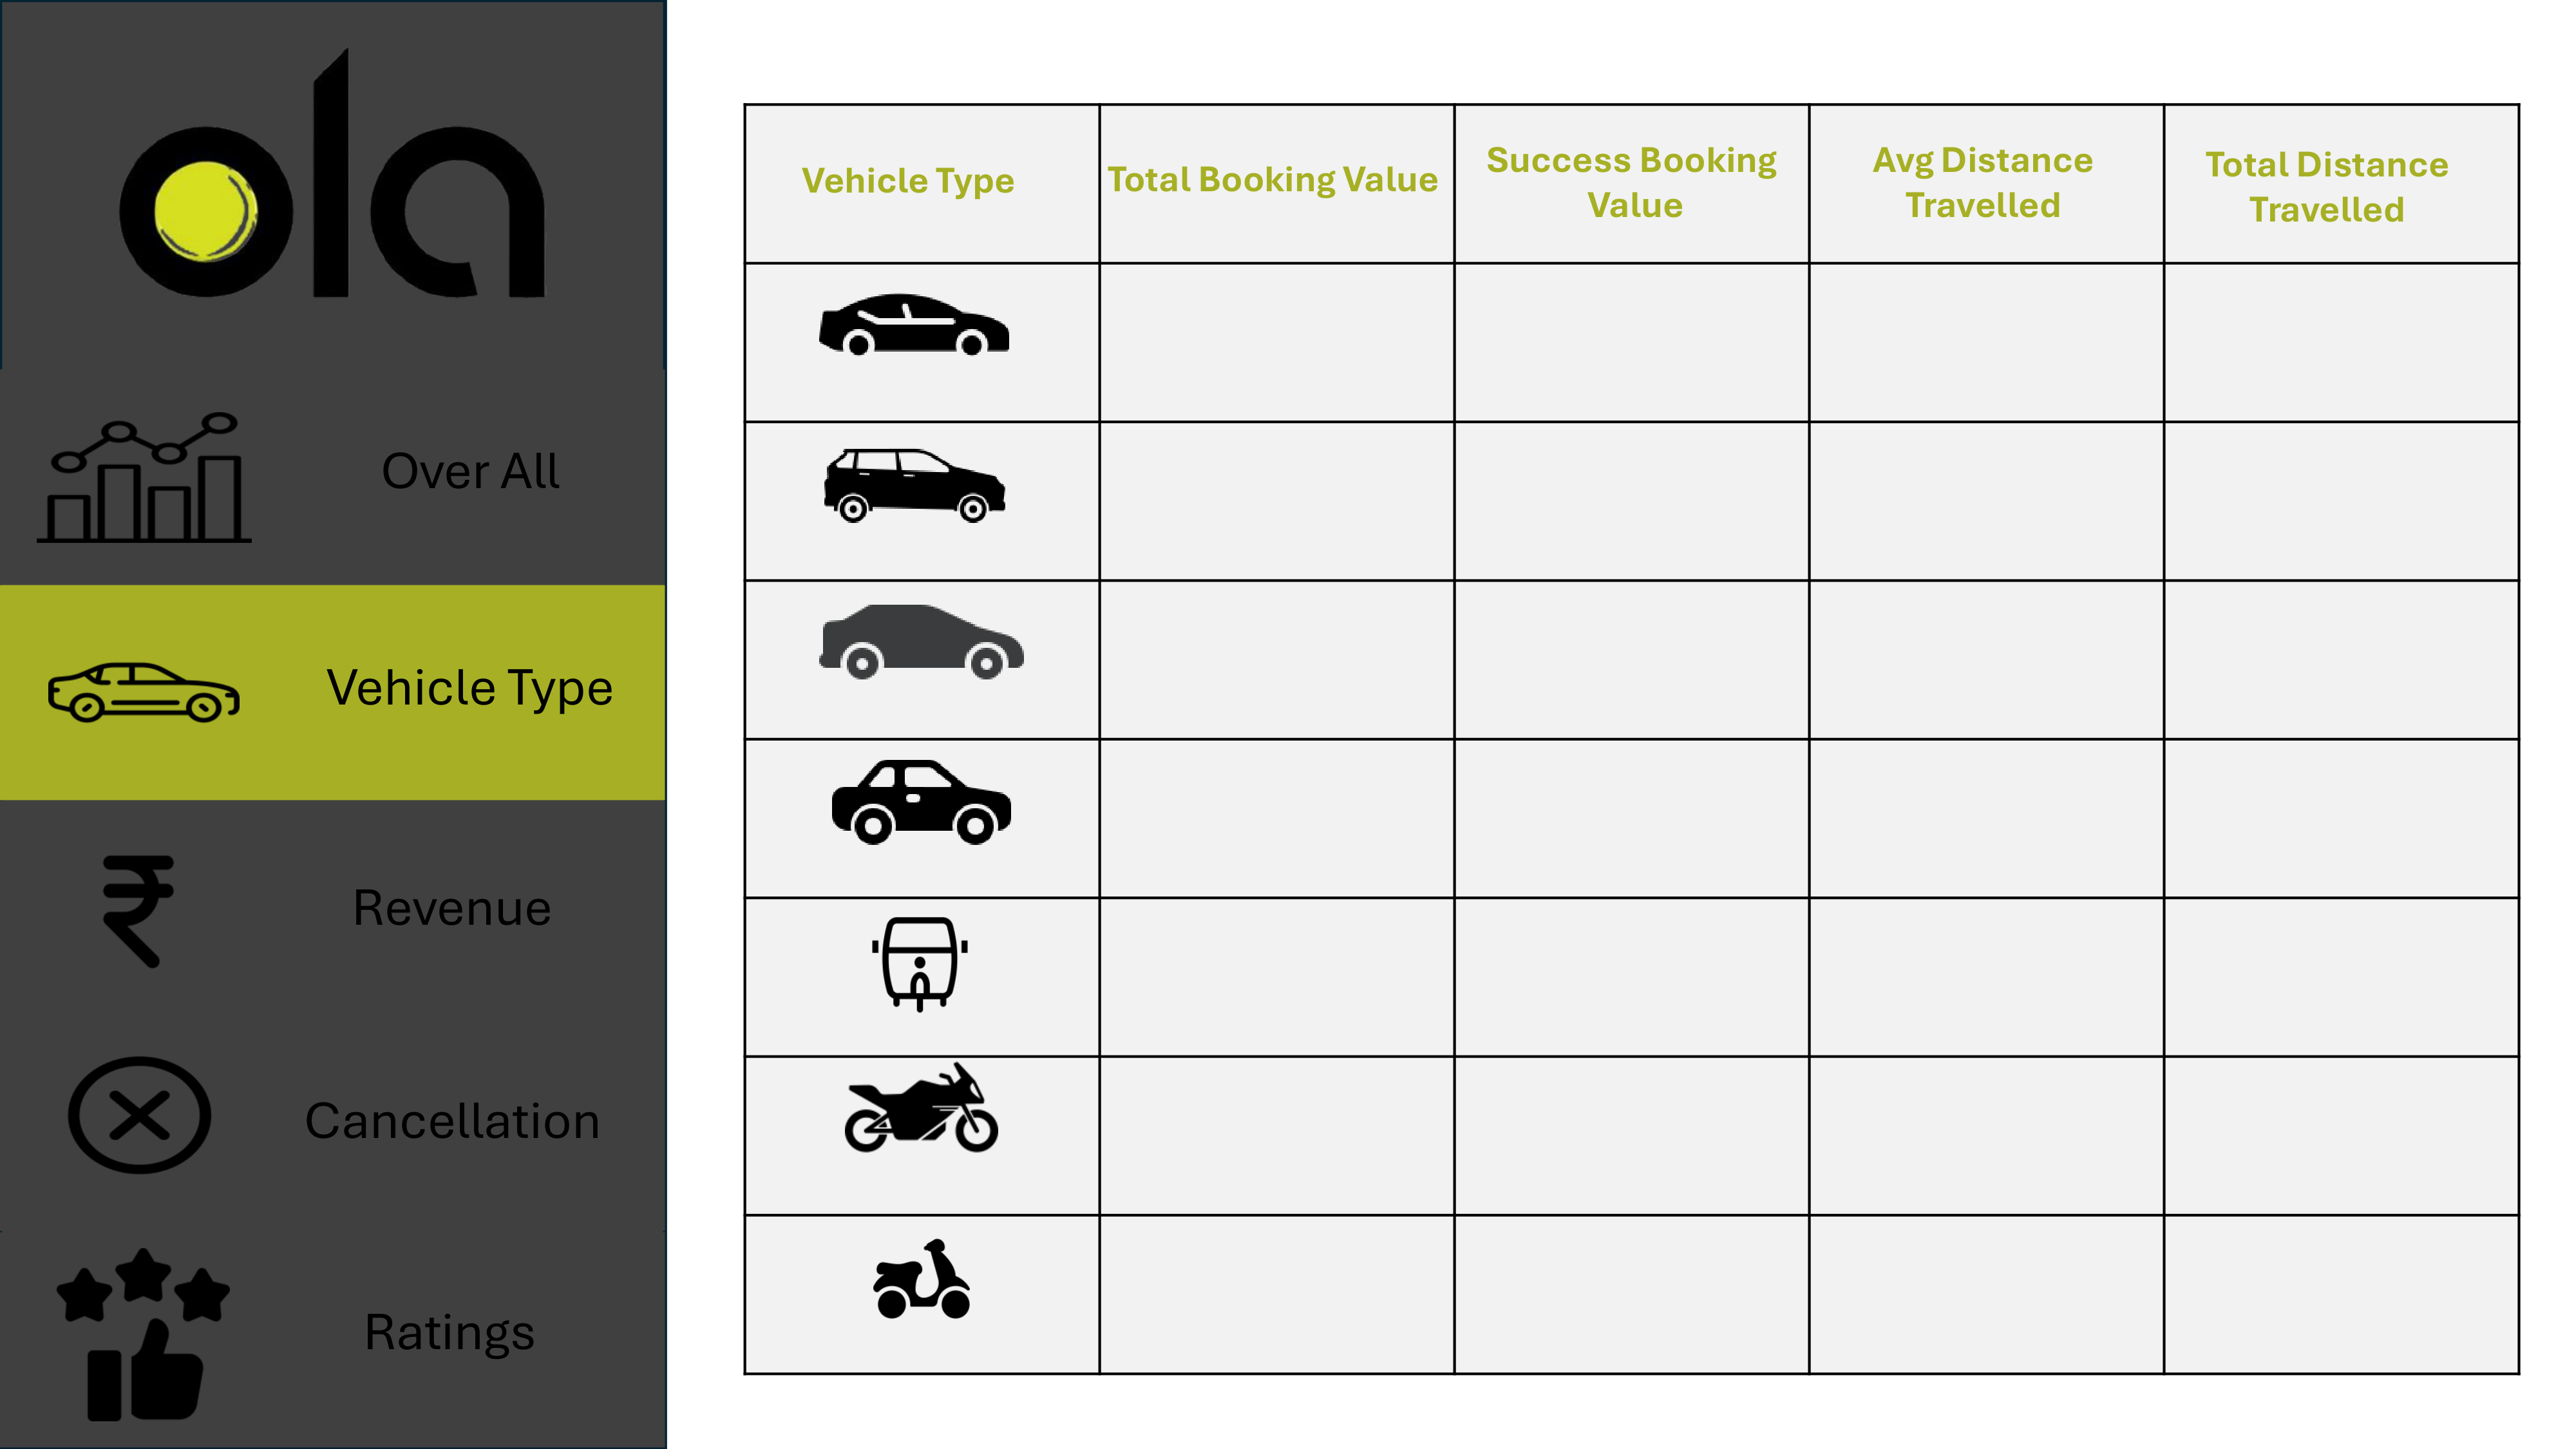

The dashboard page shown, as its layout file describes it:
{"tool":"powerbi","page":{"name":"Vehicle Type","canvas":[1280,720],"ordinal":1},"visuals":[{"type":"actionButton","box":[0,290,330,108],"z":0},{"type":"actionButton","box":[0,397.5,330,101.2],"z":1000},{"type":"actionButton","box":[0,498.8,330,112.5],"z":2000},{"type":"actionButton","box":[0,611.2,330,108.8],"z":3000},{"type":"actionButton","box":[0,187.5,330,102.5],"z":4000},{"type":"textbox","box":[406.7,180,101.1,28.9],"z":5000},{"type":"textbox","box":[411.1,262.2,92.2,27.8],"z":6000},{"type":"textbox","box":[403.3,338.9,108.9,27.8],"z":7000},{"type":"textbox","box":[415.6,420,87.8,27.8],"z":8000},{"type":"textbox","box":[436.7,498.9,48.9,27.8],"z":9000},{"type":"textbox","box":[415.6,576.7,78.9,27.8],"z":10000},{"type":"textbox","box":[432.2,653.3,71.1,27.8],"z":11000},{"type":"card","fields":{"Values":["Sum(Sheet1.Booking_Value)"]},"box":[538.9,143.3,175.6,70],"z":12000},{"type":"card","fields":{"Values":["Sum(Sheet1.Booking_Value)"]},"box":[536.4,218.2,181.8,70],"z":13000},{"type":"card","fields":{"Values":["Sum(Sheet1.Booking_Value)"]},"box":[538.2,295.5,180.9,70.9],"z":14000},{"type":"card","fields":{"Values":["Sum(Sheet1.Booking_Value)"]},"box":[538.2,371.8,180.9,70],"z":15000},{"type":"card","fields":{"Values":["Sum(Sheet1.Booking_Value)"]},"box":[536.4,450.9,181.8,69.1],"z":16000},{"type":"card","fields":{"Values":["Sum(Sheet1.Booking_Value)"]},"box":[539.1,530,180.9,67.3],"z":17000},{"type":"card","fields":{"Values":["Sum(Sheet1.Booking_Value)"]},"box":[538.2,608.2,180.9,72.7],"z":18000},{"type":"card","fields":{"Values":["Sum(Sheet1.Booking_Value)"]},"box":[720,138.9,175.6,70],"z":19000},{"type":"card","fields":{"Values":["Sum(Sheet1.Booking_Value)"]},"box":[720,217.8,175.6,70],"z":20000},{"type":"card","fields":{"Values":["Sum(Sheet1.Booking_Value)"]},"box":[720,611.2,176.2,70],"z":21000},{"type":"card","fields":{"Values":["Sum(Sheet1.Booking_Value)"]},"box":[721.2,533.8,176.2,70],"z":22000},{"type":"card","fields":{"Values":["Sum(Sheet1.Booking_Value)"]},"box":[722.5,456.2,176.2,70],"z":23000},{"type":"card","fields":{"Values":["Sum(Sheet1.Booking_Value)"]},"box":[723.8,381.2,175,70],"z":24000},{"type":"card","fields":{"Values":["Sum(Sheet1.Booking_Value)"]},"box":[720,296.7,175.6,70],"z":25000},{"type":"card","fields":{"Values":["Avg(Sheet1.Ride_Distance)"]},"box":[900,136.9,173.8,72.3],"z":26000},{"type":"textbox","box":[964.7,105.3,58.2,29.4],"z":27000},{"type":"card","fields":{"Values":["Avg(Sheet1.Ride_Distance)"]},"box":[898.5,451.5,173.8,72.3],"z":28000},{"type":"card","fields":{"Values":["Avg(Sheet1.Ride_Distance)"]},"box":[900,293.8,173.8,72.3],"z":29000},{"type":"card","fields":{"Values":["Avg(Sheet1.Ride_Distance)"]},"box":[900,375.4,173.8,72.3],"z":30000},{"type":"card","fields":{"Values":["Avg(Sheet1.Ride_Distance)"]},"box":[900,530,173.8,72.3],"z":31000},{"type":"card","fields":{"Values":["Avg(Sheet1.Ride_Distance)"]},"box":[900,216.2,173.8,72.3],"z":32000},{"type":"card","fields":{"Values":["Avg(Sheet1.Ride_Distance)"]},"box":[900,608.5,173.8,72.3],"z":33000},{"type":"card","fields":{"Values":["Sum(Sheet1.Ride_Distance)"]},"box":[1073.8,137.5,173.8,71.2],"z":34000},{"type":"card","fields":{"Values":["Sum(Sheet1.Ride_Distance)"]},"box":[1074,219,174,71],"z":35000},{"type":"card","fields":{"Values":["Sum(Sheet1.Ride_Distance)"]},"box":[1074,296,174,71],"z":36000},{"type":"card","fields":{"Values":["Sum(Sheet1.Ride_Distance)"]},"box":[1074,375,174,71],"z":37000},{"type":"card","fields":{"Values":["Sum(Sheet1.Ride_Distance)"]},"box":[1074,453,174,71],"z":38000},{"type":"card","fields":{"Values":["Sum(Sheet1.Ride_Distance)"]},"box":[1074,531,174,71],"z":39000},{"type":"card","fields":{"Values":["Sum(Sheet1.Ride_Distance)"]},"box":[1074,610,174,71],"z":40000}]}

Visuals, with their boxes in screenshot pixels (x1, y1, x2, y2), scaled from the page's 1280x720 canvas onto the 2576x1449 screenshot:
actionButton: <box>0,583,664,801</box>
actionButton: <box>0,800,664,1003</box>
actionButton: <box>0,1004,664,1230</box>
actionButton: <box>0,1230,664,1448</box>
actionButton: <box>0,377,664,583</box>
textbox: <box>819,362,1022,421</box>
textbox: <box>828,527,1013,583</box>
textbox: <box>811,682,1031,738</box>
textbox: <box>837,845,1013,901</box>
textbox: <box>879,1004,978,1060</box>
textbox: <box>837,1160,995,1217</box>
textbox: <box>870,1315,1013,1370</box>
card - Sum(Sheet1.Booking_Value): <box>1084,289,1438,430</box>
card - Sum(Sheet1.Booking_Value): <box>1079,439,1445,580</box>
card - Sum(Sheet1.Booking_Value): <box>1083,594,1447,737</box>
card - Sum(Sheet1.Booking_Value): <box>1083,748,1447,889</box>
card - Sum(Sheet1.Booking_Value): <box>1079,907,1445,1046</box>
card - Sum(Sheet1.Booking_Value): <box>1085,1066,1449,1202</box>
card - Sum(Sheet1.Booking_Value): <box>1083,1224,1447,1370</box>
card - Sum(Sheet1.Booking_Value): <box>1449,279,1803,421</box>
card - Sum(Sheet1.Booking_Value): <box>1449,439,1803,579</box>
card - Sum(Sheet1.Booking_Value): <box>1449,1230,1804,1371</box>
card - Sum(Sheet1.Booking_Value): <box>1452,1074,1806,1215</box>
card - Sum(Sheet1.Booking_Value): <box>1454,918,1808,1059</box>
card - Sum(Sheet1.Booking_Value): <box>1457,767,1809,908</box>
card - Sum(Sheet1.Booking_Value): <box>1449,597,1803,738</box>
card - Avg(Sheet1.Ride_Distance): <box>1811,276,2161,421</box>
textbox: <box>1942,212,2059,271</box>
card - Avg(Sheet1.Ride_Distance): <box>1808,909,2158,1054</box>
card - Avg(Sheet1.Ride_Distance): <box>1811,591,2161,737</box>
card - Avg(Sheet1.Ride_Distance): <box>1811,755,2161,901</box>
card - Avg(Sheet1.Ride_Distance): <box>1811,1066,2161,1212</box>
card - Avg(Sheet1.Ride_Distance): <box>1811,435,2161,581</box>
card - Avg(Sheet1.Ride_Distance): <box>1811,1225,2161,1370</box>
card - Sum(Sheet1.Ride_Distance): <box>2161,277,2511,420</box>
card - Sum(Sheet1.Ride_Distance): <box>2161,440,2512,583</box>
card - Sum(Sheet1.Ride_Distance): <box>2161,596,2512,739</box>
card - Sum(Sheet1.Ride_Distance): <box>2161,755,2512,898</box>
card - Sum(Sheet1.Ride_Distance): <box>2161,912,2512,1055</box>
card - Sum(Sheet1.Ride_Distance): <box>2161,1068,2512,1211</box>
card - Sum(Sheet1.Ride_Distance): <box>2161,1227,2512,1370</box>
